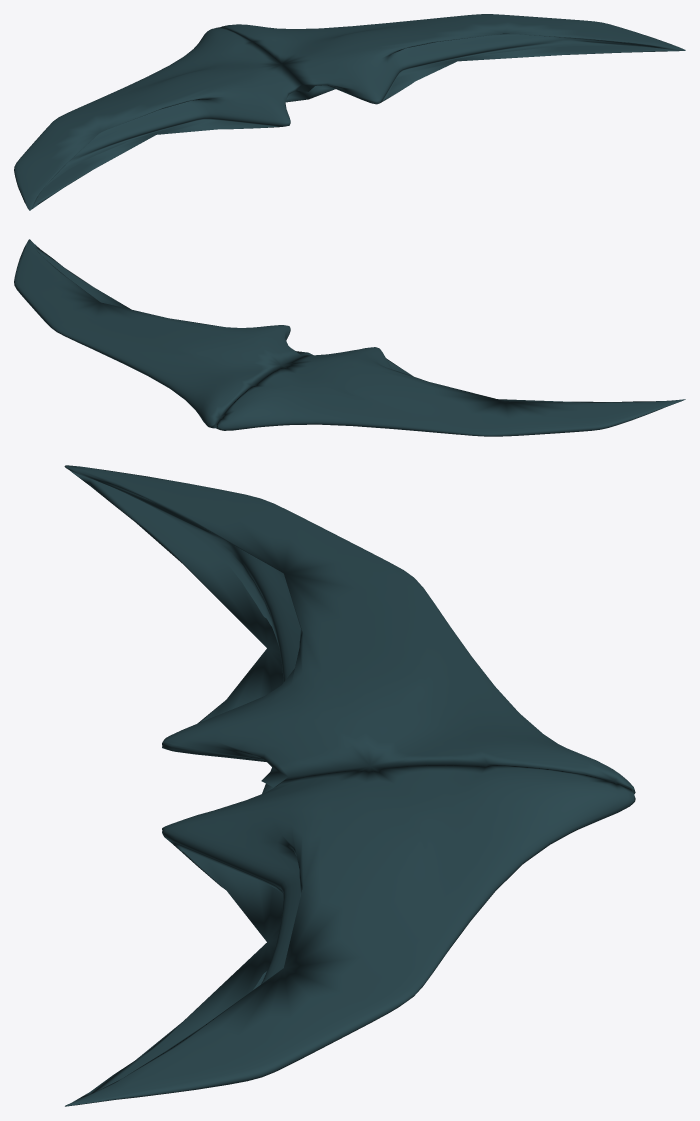
File: whipper_head.fbx
The picture shows the model from 3 angles, top to bottom: view 1: azimuth 30°, elevation 25°; view 2: azimuth 150°, elevation 25°; view 3: azimuth 270°, elevation 25°; orthographic projection. The views are drawn at different scales.
Visible parts, largest first — view 1: Head-Segment; view 2: Head-Segment; view 3: Head-Segment.
Part boxes in pixels (<box>): Head-Segment: <box>14,14,685,210</box>; Head-Segment: <box>14,239,685,436</box>; Head-Segment: <box>64,465,635,1106</box>.
Bounding box in the file's own units: 317 × 12.1 × 119.
